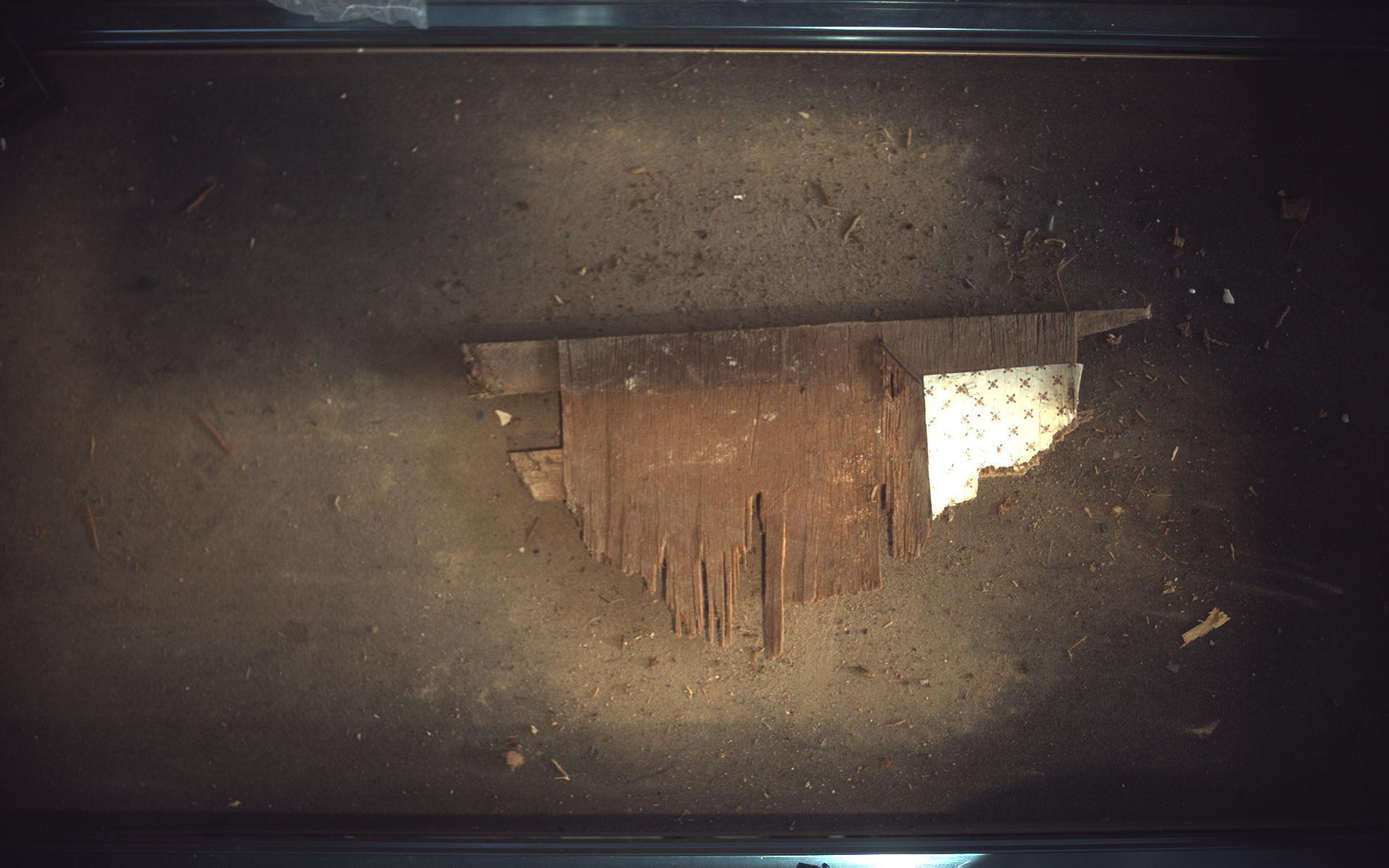wood: (463, 307, 1153, 659)
